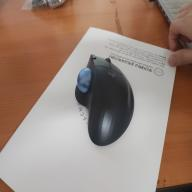mouse: (74, 52, 135, 147)
